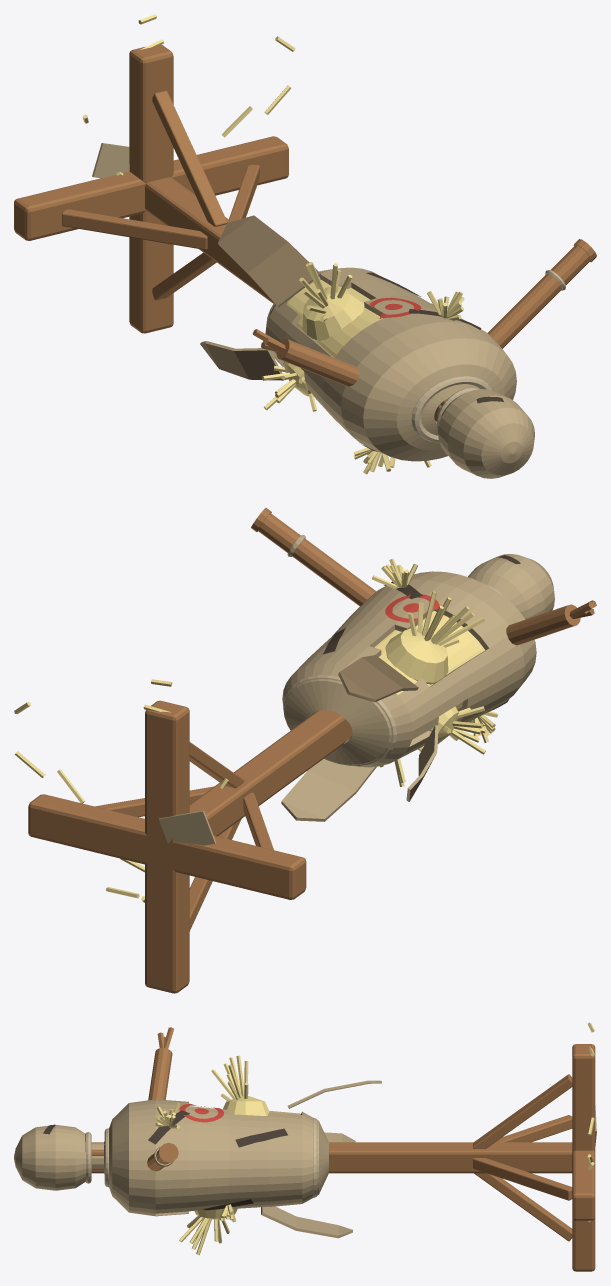
Rendered from dummy1.obj.
3 views of the same model, one above another, from view 1: azimuth 30°, elevation 25°; view 2: azimuth 150°, elevation 25°; view 3: azimuth 270°, elevation 25° (orthographic). The views are drawn at different scales.
Bounding box in the file's own units: 0.9253 × 0.7985 × 1.75.
